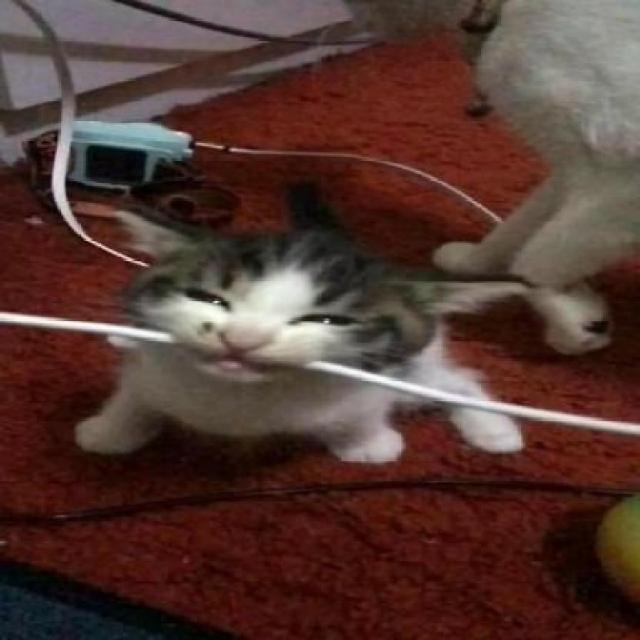cat: (82, 210, 502, 461)
